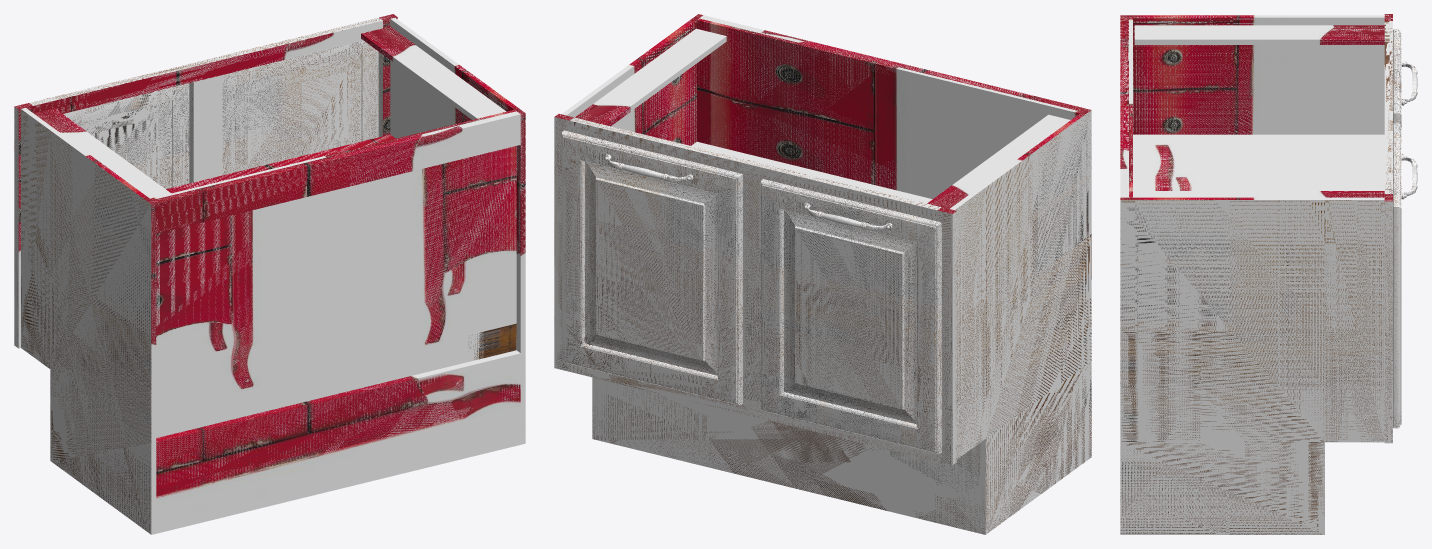
The picture shows the model from 3 angles, left to right: view 1: azimuth 30°, elevation 25°; view 2: azimuth 150°, elevation 25°; view 3: azimuth 270°, elevation 25°; orthographic projection. The views are drawn at different scales.
Parts seen in each view (by area): view 1: mesh4_mesh4-geometry, mesh12_mesh12-geometry, mesh7_mesh7-geometry, mesh3_mesh3-geometry, mesh8_mesh8-geometry, mesh37_mesh37-geometry, mesh6_mesh6-geometry, mesh5_mesh5-geometry, mesh10_mesh10-geometry, mesh14_mesh14-geometry, mesh16_mesh16-geometry, mesh2_mesh2-geometry (+13 smaller); view 2: mesh4_mesh4-geometry, mesh7_mesh7-geometry, mesh13_mesh13-geometry, mesh38_mesh38-geometry, mesh53_mesh53-geometry, mesh8_mesh8-geometry, mesh5_mesh5-geometry, mesh6_mesh6-geometry, mesh36_mesh36-geometry, mesh51_mesh51-geometry, mesh2_mesh2-geometry, mesh35_mesh35-geometry (+19 smaller); view 3: mesh10_mesh10-geometry, mesh7_mesh7-geometry, mesh11_mesh11-geometry, mesh9_mesh9-geometry, mesh17_mesh17-geometry, mesh6_mesh6-geometry, mesh15_mesh15-geometry, mesh2_mesh2-geometry, mesh14_mesh14-geometry, mesh3_mesh3-geometry, mesh5_mesh5-geometry, mesh35_mesh35-geometry (+4 smaller).
Boxes of the visible parts, x1=… form: mesh4_mesh4-geometry: x1=150, y1=109, x2=516, y2=437; mesh12_mesh12-geometry: x1=156, y1=350, x2=520, y2=533; mesh7_mesh7-geometry: x1=50, y1=129, x2=156, y2=443; mesh3_mesh3-geometry: x1=152, y1=111, x2=520, y2=233; mesh8_mesh8-geometry: x1=50, y1=369, x2=156, y2=534; mesh37_mesh37-geometry: x1=248, y1=71, x2=347, y2=168; mesh6_mesh6-geometry: x1=21, y1=108, x2=54, y2=368; mesh5_mesh5-geometry: x1=29, y1=17, x2=382, y2=113; mesh10_mesh10-geometry: x1=419, y1=39, x2=525, y2=353; mesh14_mesh14-geometry: x1=361, y1=26, x2=505, y2=119; mesh16_mesh16-geometry: x1=189, y1=75, x2=222, y2=183; mesh2_mesh2-geometry: x1=14, y1=14, x2=397, y2=348; mesh4_mesh4-geometry: x1=697, y1=18, x2=1081, y2=198; mesh7_mesh7-geometry: x1=981, y1=108, x2=1091, y2=438; mesh13_mesh13-geometry: x1=597, y1=378, x2=980, y2=533; mesh38_mesh38-geometry: x1=597, y1=181, x2=701, y2=358; mesh53_mesh53-geometry: x1=796, y1=230, x2=900, y2=407; mesh8_mesh8-geometry: x1=980, y1=361, x2=1091, y2=534; mesh5_mesh5-geometry: x1=569, y1=117, x2=941, y2=461; mesh6_mesh6-geometry: x1=950, y1=186, x2=985, y2=459; mesh36_mesh36-geometry: x1=702, y1=206, x2=742, y2=367; mesh51_mesh51-geometry: x1=901, y1=255, x2=941, y2=415; mesh2_mesh2-geometry: x1=554, y1=114, x2=956, y2=465; mesh35_mesh35-geometry: x1=562, y1=172, x2=597, y2=333; mesh10_mesh10-geometry: x1=1120, y1=197, x2=1324, y2=442; mesh7_mesh7-geometry: x1=1120, y1=15, x2=1324, y2=134; mesh11_mesh11-geometry: x1=1120, y1=442, x2=1324, y2=534; mesh9_mesh9-geometry: x1=1325, y1=197, x2=1384, y2=442; mesh17_mesh17-geometry: x1=1133, y1=134, x2=1384, y2=197; mesh6_mesh6-geometry: x1=1325, y1=15, x2=1384, y2=134; mesh15_mesh15-geometry: x1=1134, y1=25, x2=1384, y2=44; mesh2_mesh2-geometry: x1=1384, y1=14, x2=1392, y2=443; mesh14_mesh14-geometry: x1=1134, y1=191, x2=1384, y2=197; mesh3_mesh3-geometry: x1=1120, y1=17, x2=1128, y2=197; mesh5_mesh5-geometry: x1=1384, y1=21, x2=1392, y2=193; mesh35_mesh35-geometry: x1=1393, y1=243, x2=1401, y2=390.
Bounding box in the file's own units: 0.6829 × 0.5691 × 0.458.
